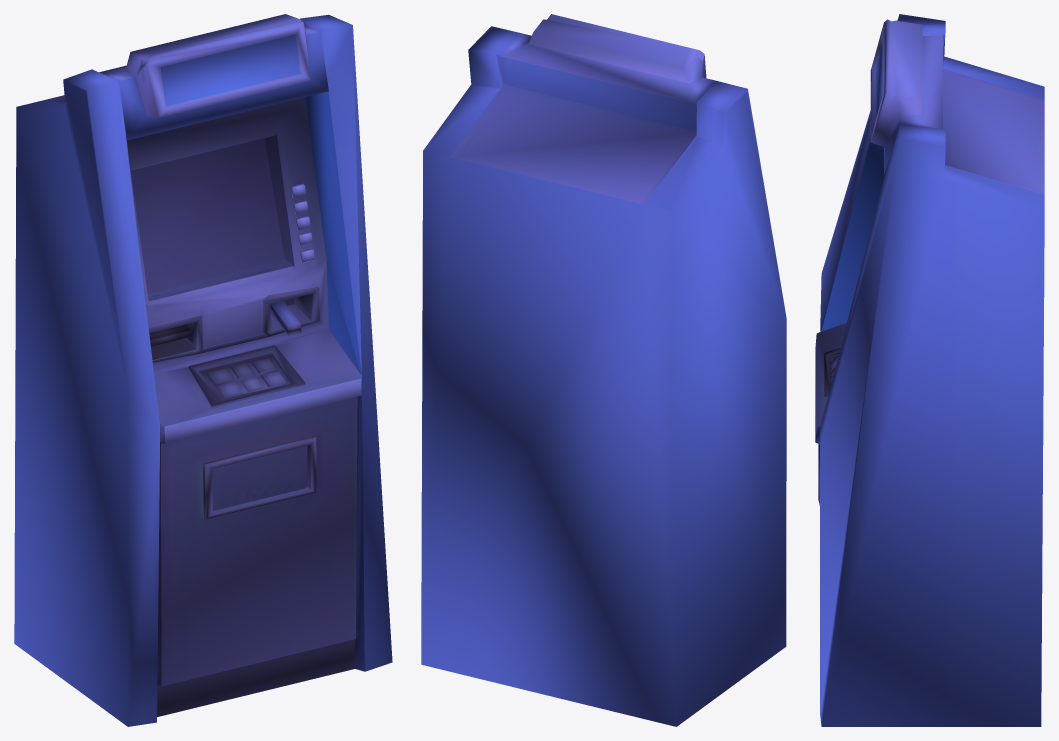
File: model.progressive.glb
The picture shows the model from 3 angles, left to right: view 1: azimuth 30°, elevation 25°; view 2: azimuth 150°, elevation 25°; view 3: azimuth 270°, elevation 25°; orthographic projection. The views are drawn at different scales.
Parts seen in each view (by area): view 1: Atm3; view 2: Atm3; view 3: Atm3.
Boxes of the visible parts, left/top/right/bottom form: Atm3: left=14, top=14, right=392, bottom=726; Atm3: left=421, top=14, right=786, bottom=726; Atm3: left=815, top=14, right=1044, bottom=726.
Size of the model in its own units: 0.826 by 1.88 by 0.6386.
Materials: 1 (1 with a texture image).
